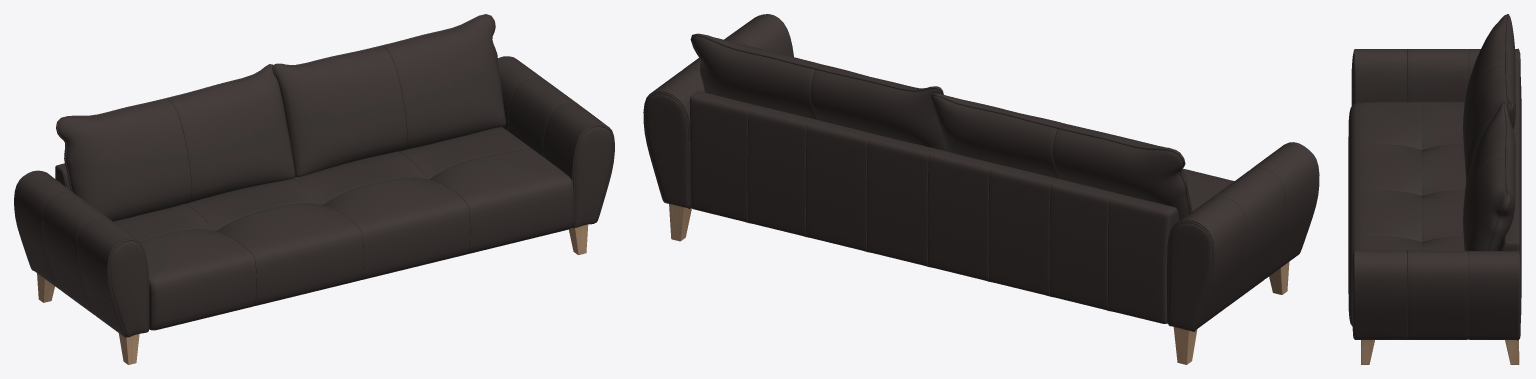
The model's file is sofa2.FBX.
The picture shows the model from 3 angles, left to right: view 1: azimuth 30°, elevation 25°; view 2: azimuth 150°, elevation 25°; view 3: azimuth 270°, elevation 25°; orthographic projection. The views are drawn at different scales.
Visible parts, largest first — view 1: Cube.002, Cube.008; view 2: Cube.002, Cube.008; view 3: Cube.002, Cube.008.
Boxes of the visible parts, left/top/right/bottom form: Cube.002: left=14, top=14, right=614, bottom=337; Cube.008: left=37, top=224, right=588, bottom=364; Cube.002: left=643, top=14, right=1319, bottom=331; Cube.008: left=669, top=204, right=1289, bottom=364; Cube.002: left=1348, top=14, right=1521, bottom=340; Cube.008: left=1361, top=340, right=1519, bottom=364.
Size of the model in its own units: 2737 by 955 by 915.
2 materials, 2 textured.
